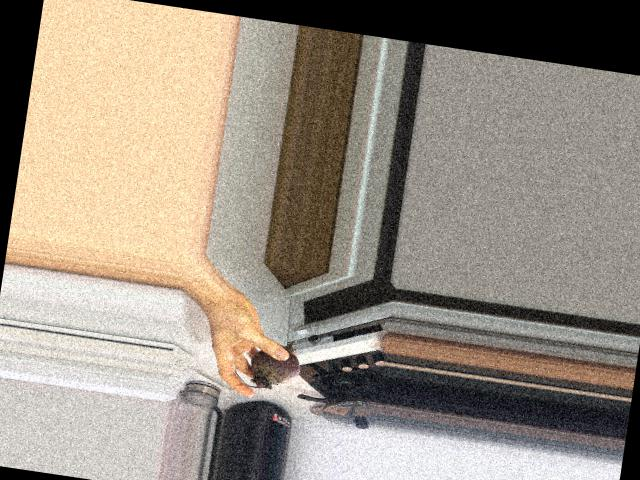beet: (234, 331, 304, 393)
